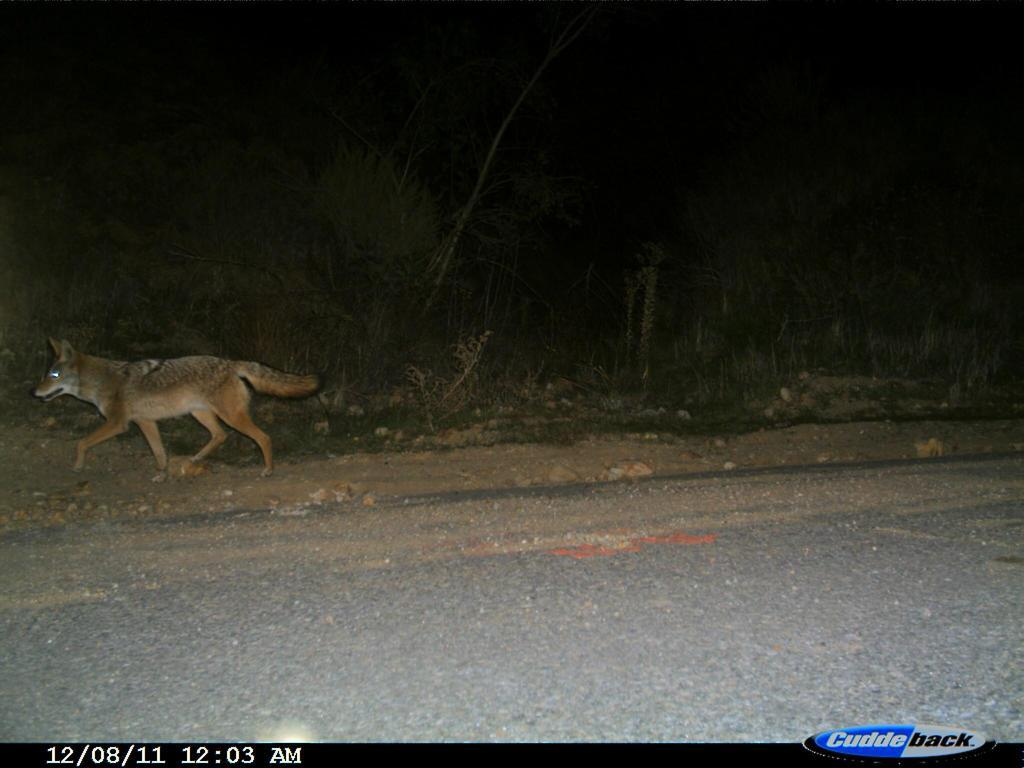coyote: (2, 328, 336, 493)
